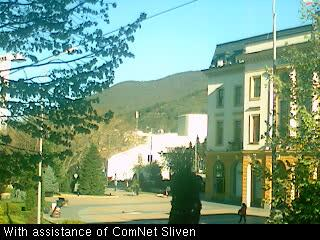person: (237, 202, 247, 223), (113, 179, 118, 192), (164, 187, 169, 198), (135, 184, 139, 195), (131, 186, 135, 195)
